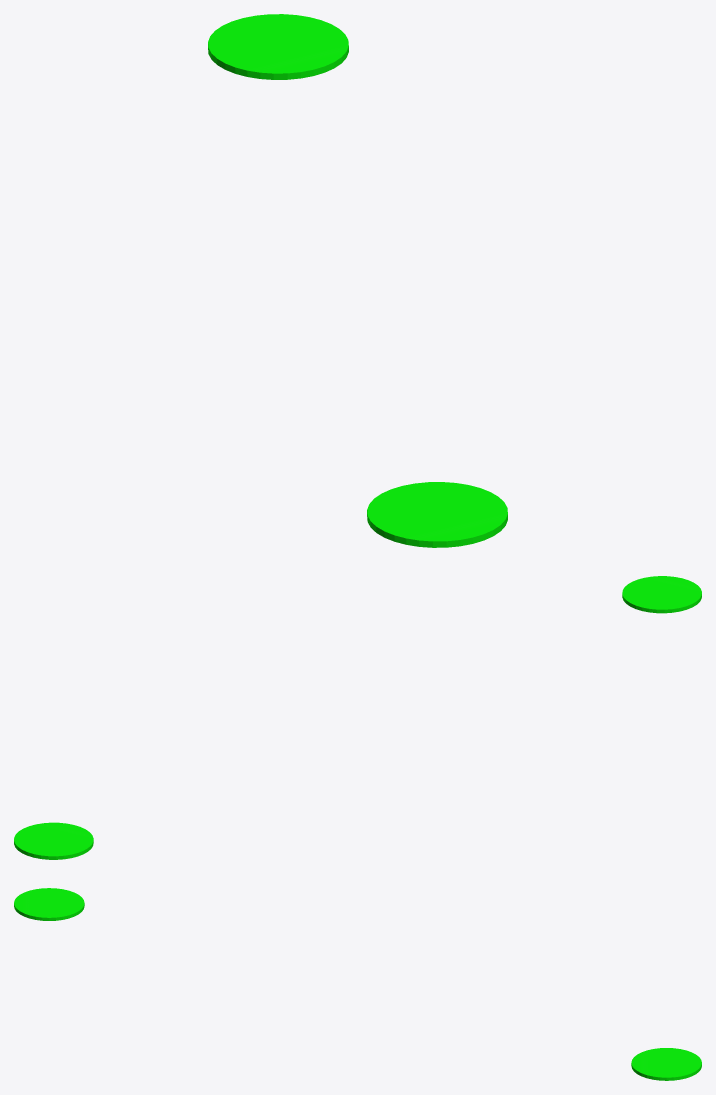
File: M12_PlayerPoints.fbx
3 renders of one model, top to bottom at view 1: azimuth 30°, elevation 25°; view 2: azimuth 150°, elevation 25°; view 3: azimuth 270°, elevation 25°, orthographic. The views are drawn at different scales.
Parts seen in each view (by area): view 1: Point1, Point2; view 2: Point2, Point1; view 3: Point1, Point2.
Boxes of the visible parts, bbox=[...] form: Point1: bbox=[208, 14, 348, 79]; Point2: bbox=[367, 482, 507, 547]; Point2: bbox=[622, 576, 701, 613]; Point1: bbox=[14, 822, 93, 859]; Point1: bbox=[631, 1048, 701, 1080]; Point2: bbox=[14, 888, 84, 920].
Bounding box in the file's own units: 19 × 3.2 × 39.
